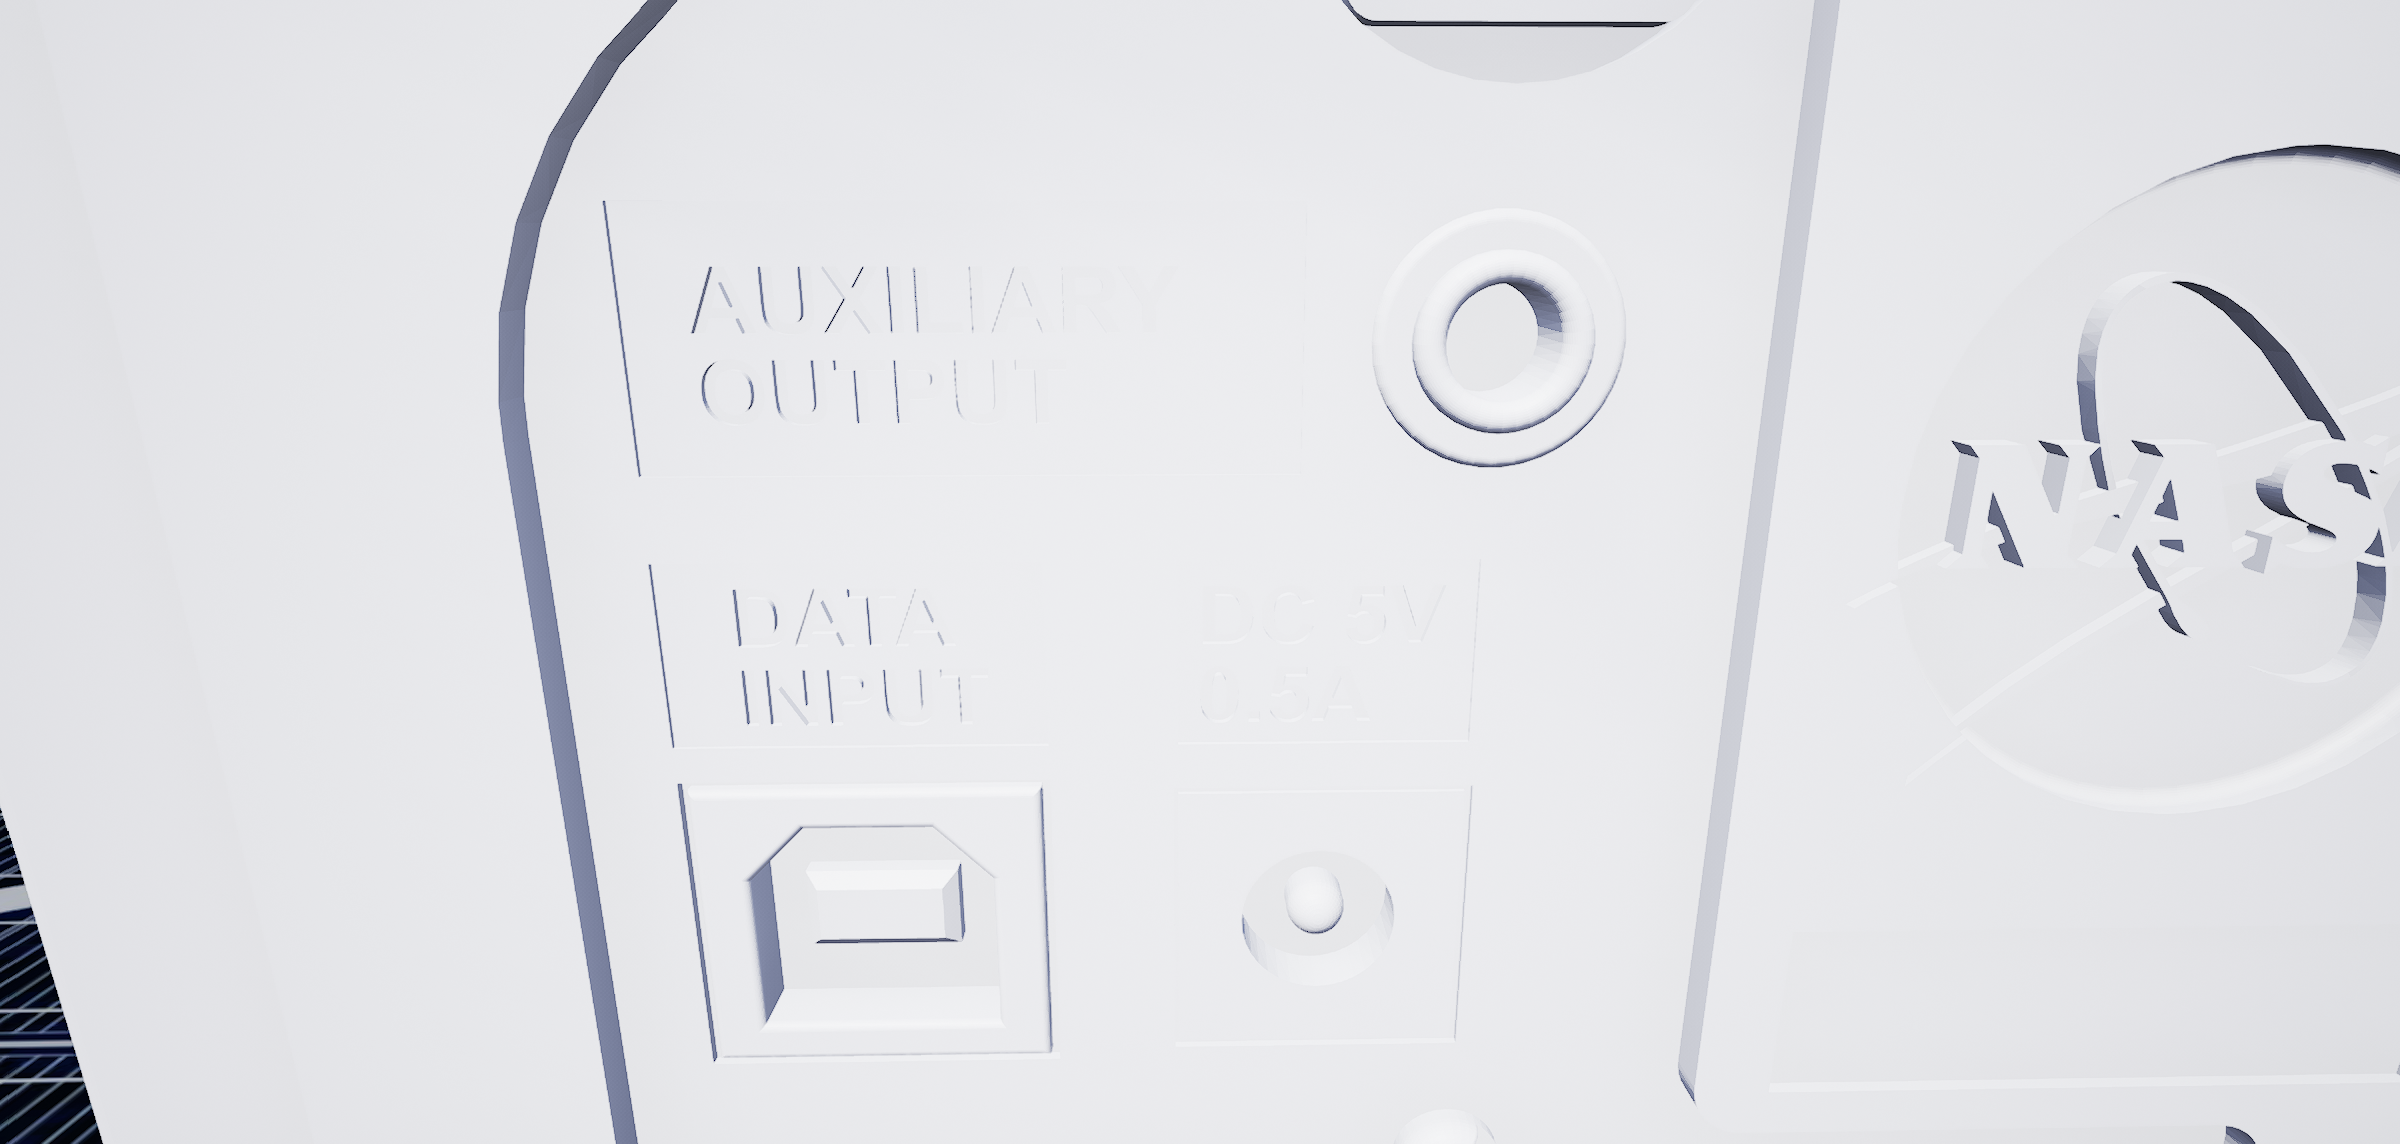aux: (1371, 196, 1645, 487)
dc: (1220, 839, 1414, 991)
usb: (735, 806, 1030, 1048)
